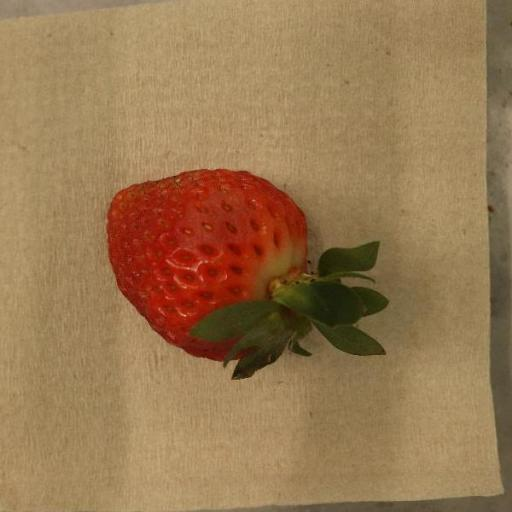Strawberry: (106, 169, 391, 381)
